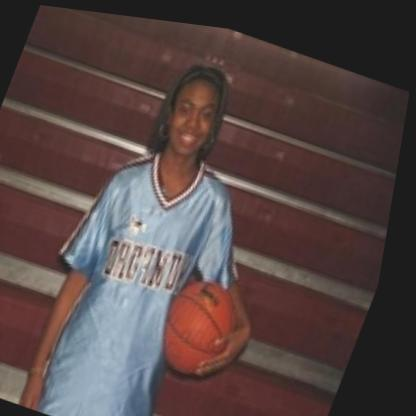basketball: (155, 261, 260, 377)
